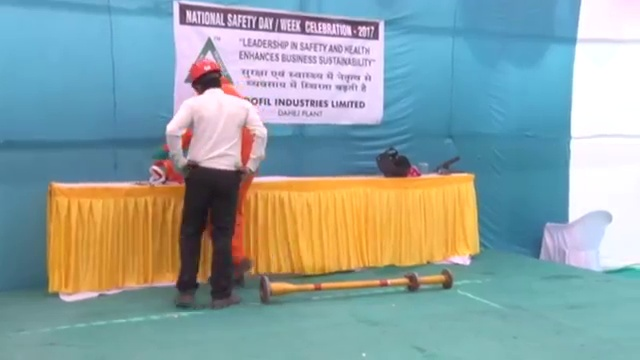helmet: (188, 59, 222, 81)
helmet_on: (187, 60, 223, 92)
person: (162, 52, 265, 310)
